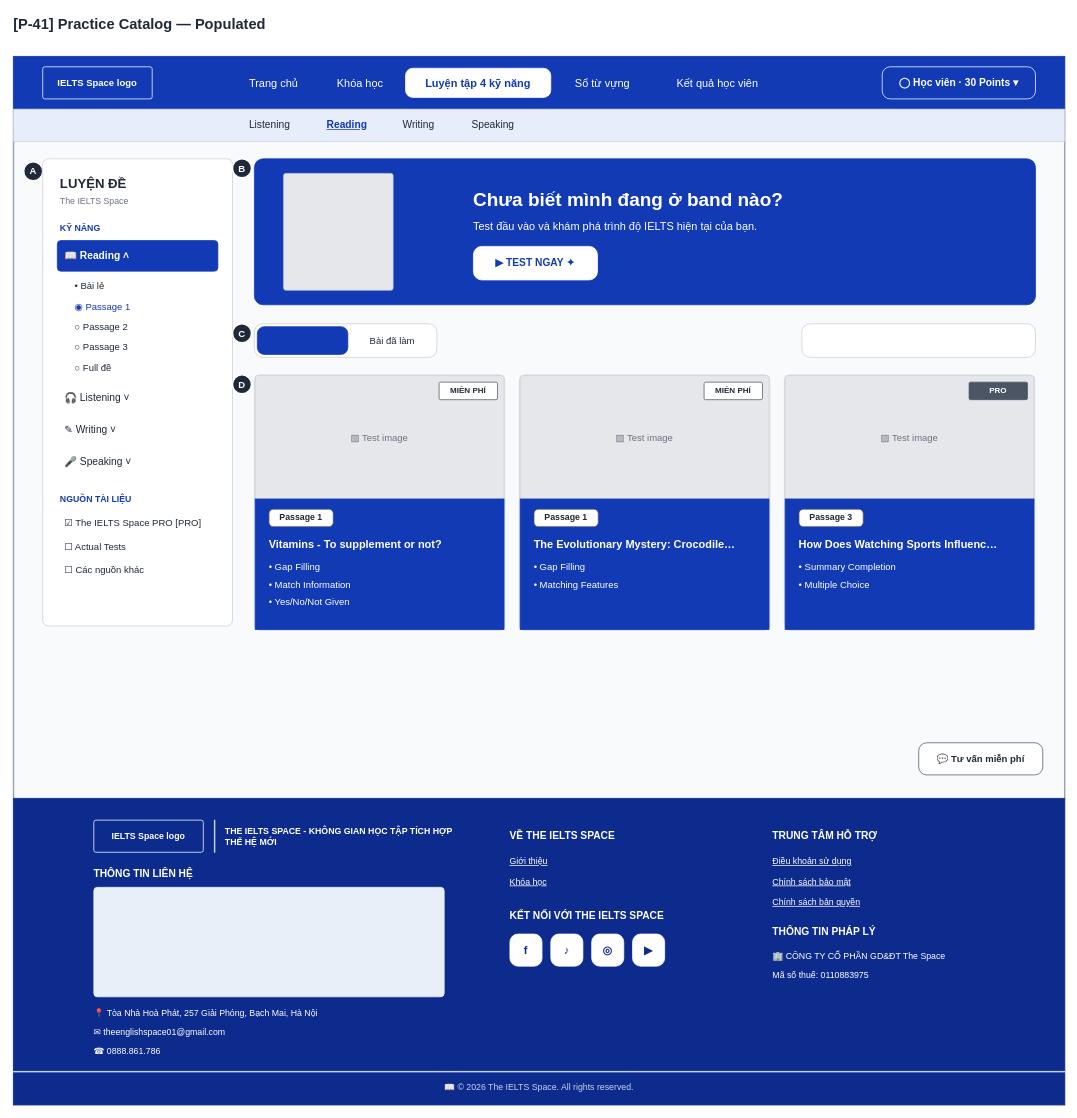
This 1077x1118 diagram has some shape labels left out. The shapes that lost their labels are listed below. From the top down, each one's centre as x and y in pixels, then its label:
At pixel 338 231: "▨ Owl mascot SVG".
At pixel 302 340: "Bài chưa làm".
At pixel 918 340: "🔍 Tìm tên bài tập".
At pixel 268 942: "📍 The IELTS Space Mở trong Maps ↗".
